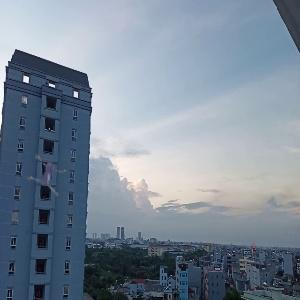drone: (20, 145, 85, 210)
